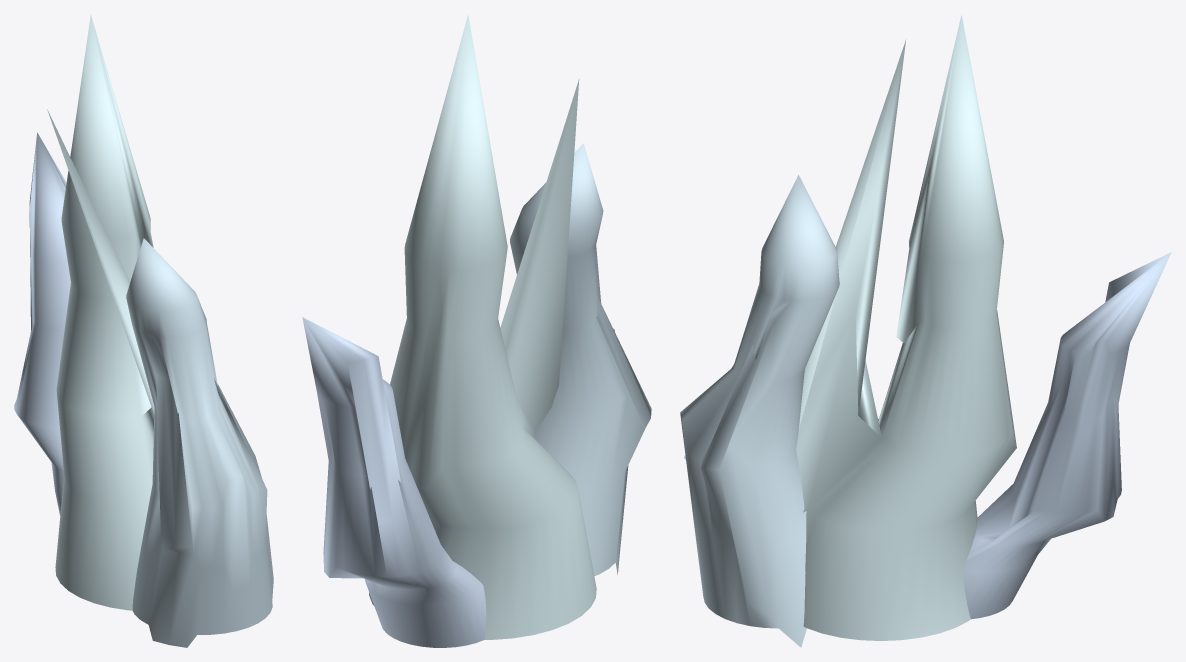
Rendered from dikit.fbx.
3 renders of one model, left to right at view 1: azimuth 30°, elevation 25°; view 2: azimuth 150°, elevation 25°; view 3: azimuth 270°, elevation 25°, orthographic. The views are drawn at different scales.
Visible parts, largest first — view 1: Circle.002, Circle, Circle.001; view 2: Circle.002, Circle.001, Circle; view 3: Circle.002, Circle, Circle.001.
Part boxes in pixels (x1=…): Circle.002: x1=47, y1=14, x2=154, y2=610; Circle: x1=126, y1=238, x2=273, y2=647; Circle.001: x1=14, y1=132, x2=70, y2=515; Circle.002: x1=369, y1=14, x2=596, y2=639; Circle.001: x1=302, y1=317, x2=486, y2=647; Circle: x1=510, y1=143, x2=651, y2=576; Circle.002: x1=796, y1=14, x2=1016, y2=640; Circle: x1=680, y1=175, x2=839, y2=647; Circle.001: x1=963, y1=252, x2=1171, y2=619.
Size of the model in its own units: 5093 by 14824 by 11239.
